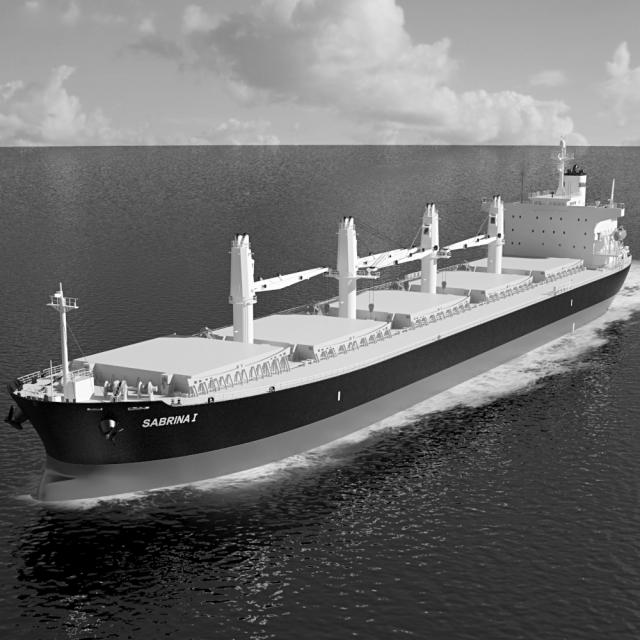Bulk-Carrier: (5, 123, 635, 517)
